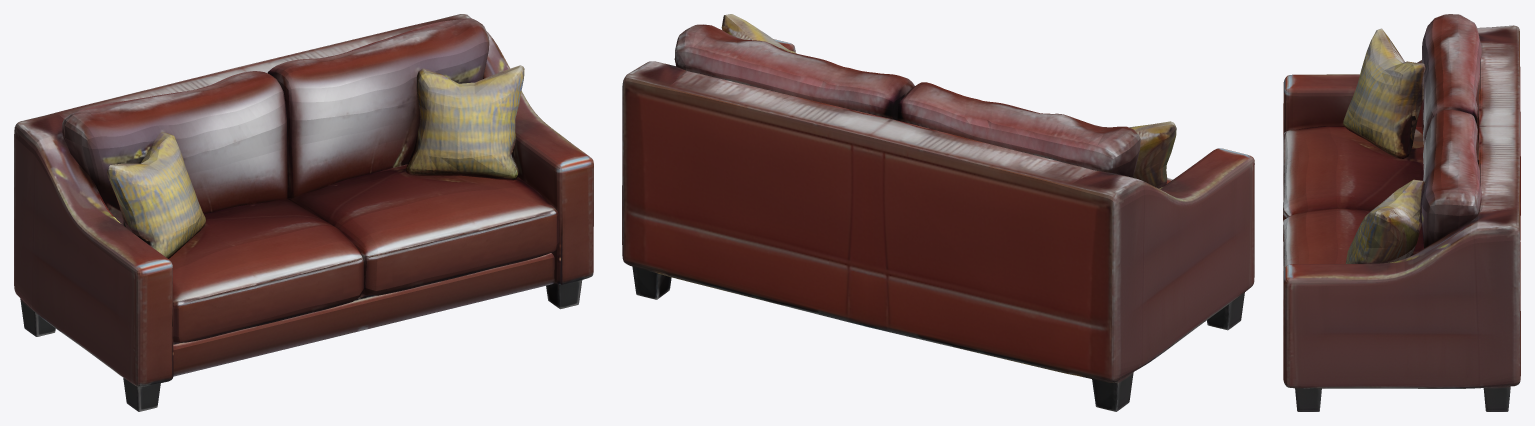
File: sofa.glb
3 renders of one model, left to right at view 1: azimuth 30°, elevation 25°; view 2: azimuth 150°, elevation 25°; view 3: azimuth 270°, elevation 25°, orthographic. The views are drawn at different scales.
Bounding box in the file's own units: 1.8 × 0.855 × 0.8775.
Materials: 1 (1 with a texture image).
